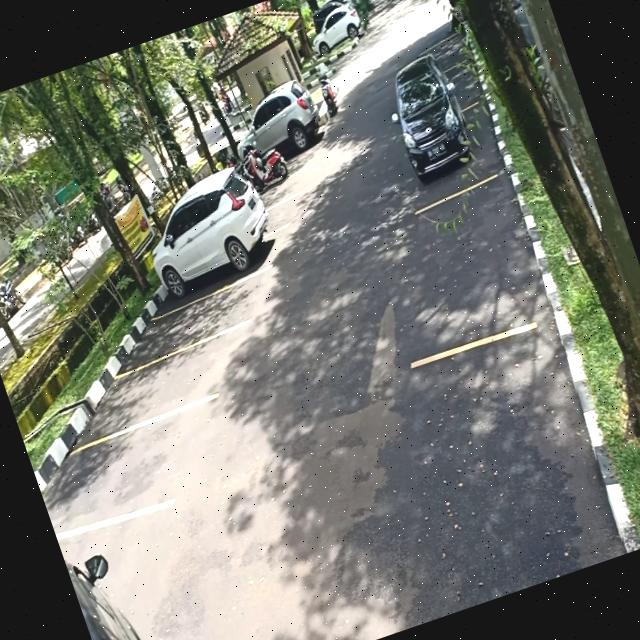empty: (392, 175, 554, 358), (30, 411, 206, 544), (78, 332, 240, 440), (125, 279, 262, 367)
occupied: (140, 187, 290, 314), (384, 86, 500, 210)
